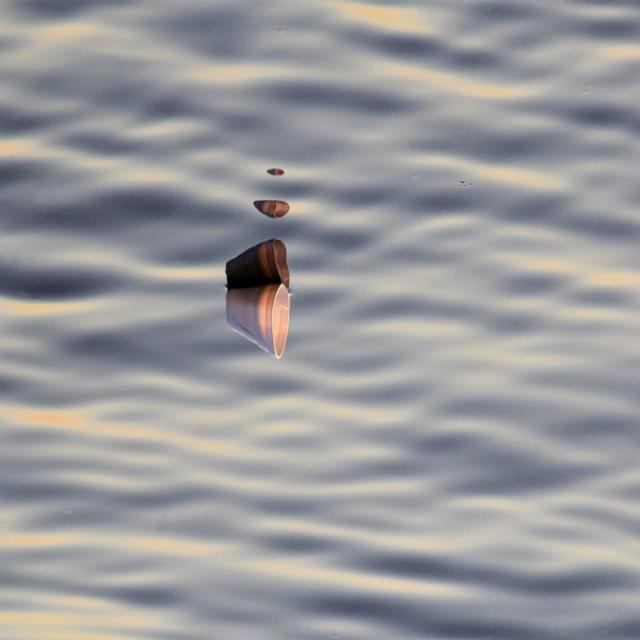Plastic: (228, 280, 294, 357)
